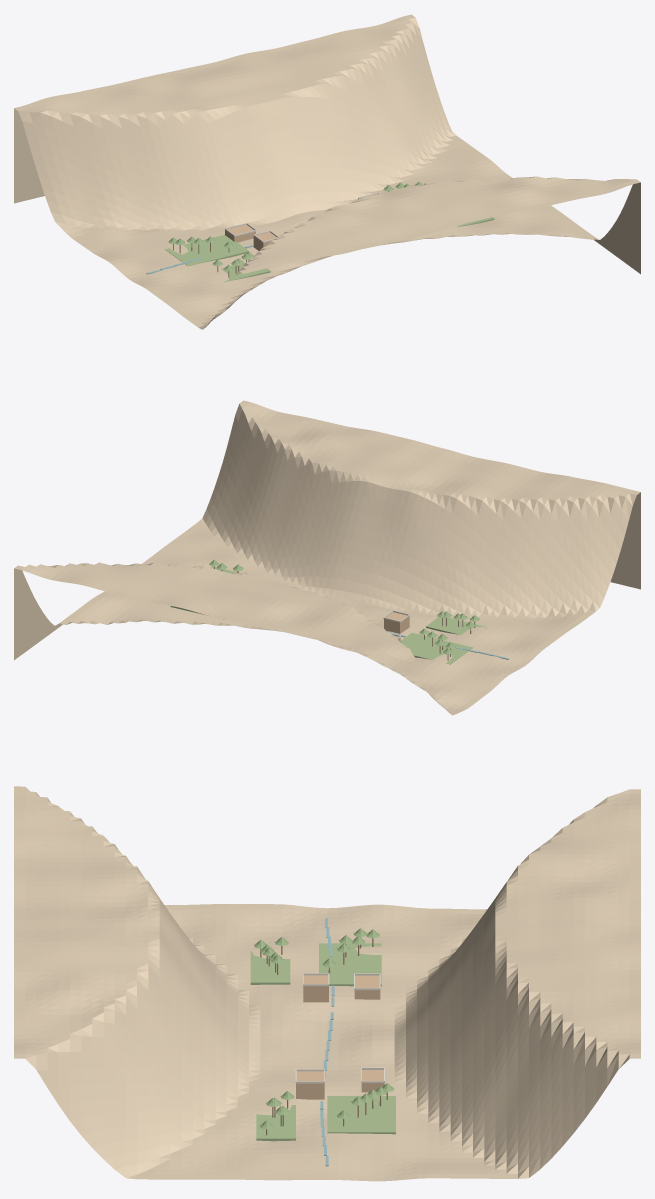
Rendered from madiq.glb.
3 views of the same model, one above another, from view 1: azimuth 30°, elevation 25°; view 2: azimuth 150°, elevation 25°; view 3: azimuth 270°, elevation 25° (orthographic). The views are drawn at different scales.
Visible parts, largest first — view 1: ground, green, greenDark, mud; view 2: ground, green, greenDark; view 3: ground, green, mud, greenDark, water, plaster.
Part boxes in pixels (x1,y1,x2,y2): ground: (14,14,640,329); green: (165,183,494,282); greenDark: (168,182,426,271); mud: (225,224,276,250); ground: (14,400,640,715); green: (170,566,486,664); greenDark: (209,559,479,654); ground: (14,786,640,1181); green: (250,943,395,1141); mud: (296,975,384,1099); greenDark: (254,928,394,1129); water: (320,918,334,1166); plaster: (295,973,384,1083).
Size of the model in its own units: 220 by 51.65 by 220.
